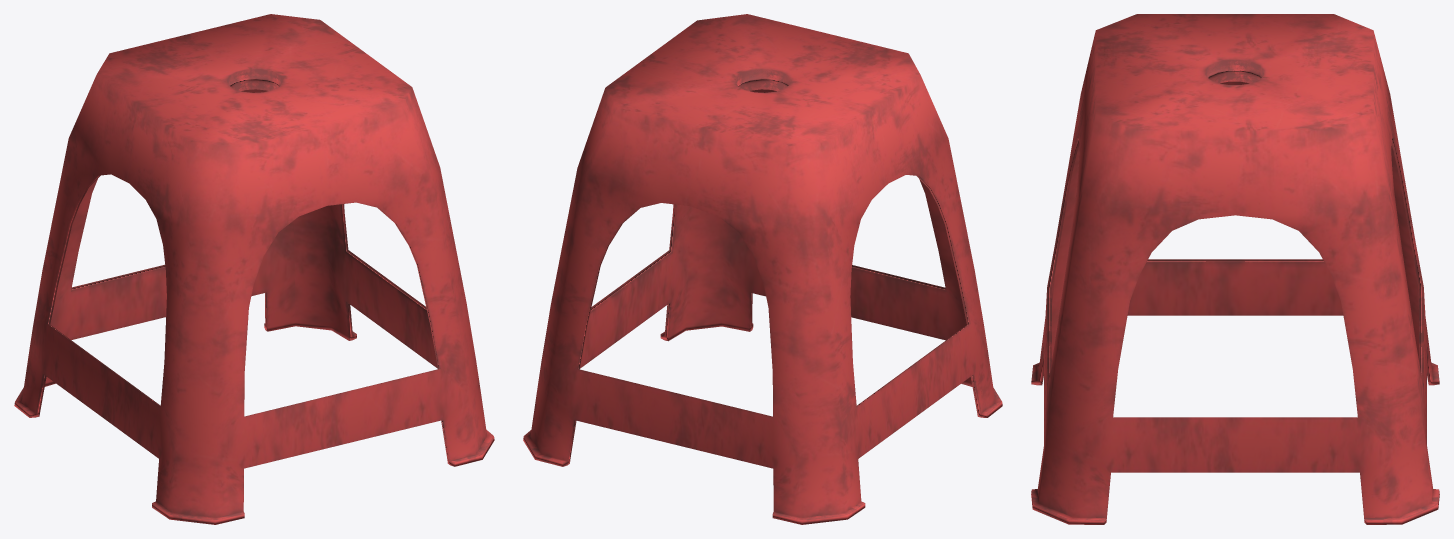
File: plastic_stool.glb
The picture shows the model from 3 angles, left to right: view 1: azimuth 30°, elevation 25°; view 2: azimuth 150°, elevation 25°; view 3: azimuth 270°, elevation 25°; orthographic projection. The views are drawn at different scales.
Parts seen in each view (by area): view 1: pCube5; view 2: pCube5; view 3: pCube5.
Part boxes in pixels (<box>): pCube5: <box>14,14,494,524</box>; pCube5: <box>523,14,1002,524</box>; pCube5: <box>1031,14,1439,524</box>.
Size of the model in its own units: 69.86 by 69.78 by 70.4.
Materials: 1 (1 with a texture image).
